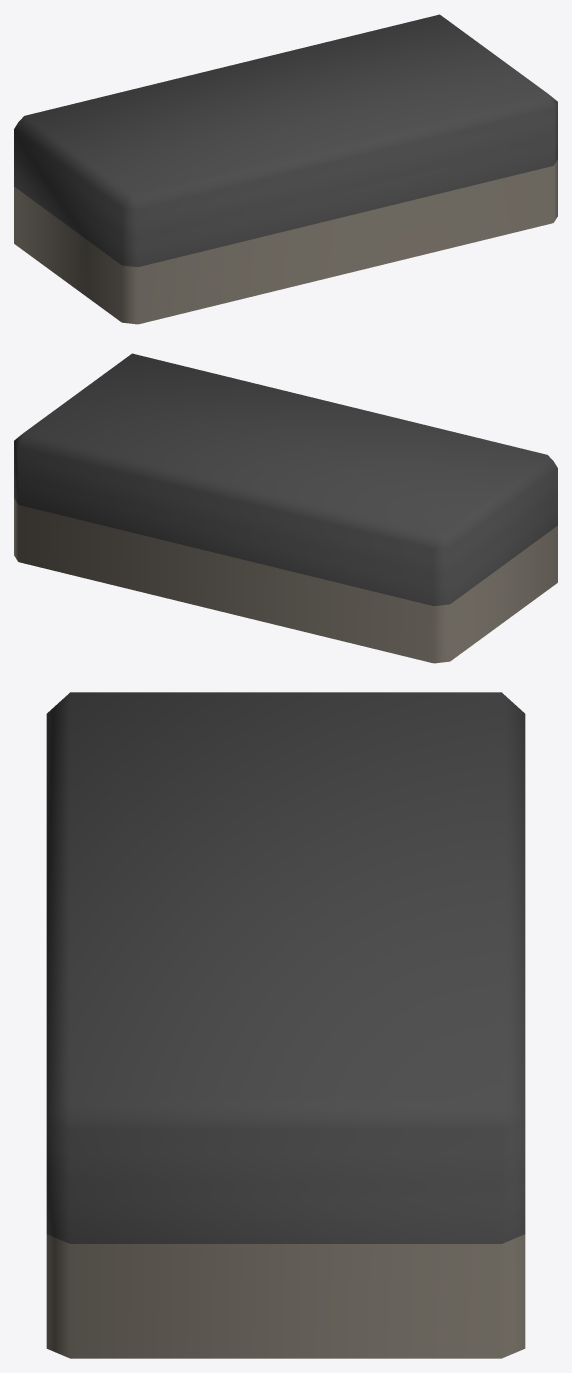
File: RoofAdd_2_A_4.fbx
The picture shows the model from 3 angles, top to bottom: view 1: azimuth 30°, elevation 25°; view 2: azimuth 150°, elevation 25°; view 3: azimuth 270°, elevation 25°; orthographic projection. The views are drawn at different scales.
Visible parts, largest first — view 1: RoofAdd_2_A_4; view 2: RoofAdd_2_A_4; view 3: RoofAdd_2_A_4.
Boxes of the visible parts, x1,y1,x2,y2 form: RoofAdd_2_A_4: (14,14,557,324); RoofAdd_2_A_4: (14,353,557,663); RoofAdd_2_A_4: (46,692,525,1358).
Size of the model in its own units: 270 by 74.17 by 128.
